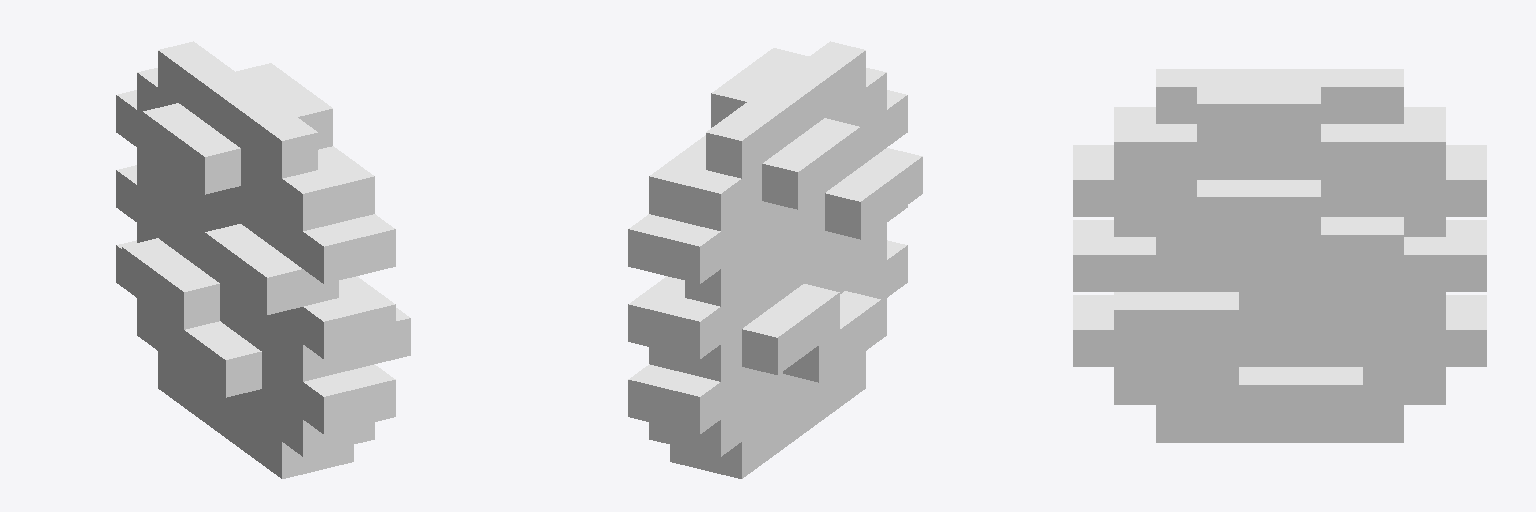
File: SH_Enviorment-8-Brick_DetailA.obj
The picture shows the model from 3 angles: view 1: azimuth 30°, elevation 25°; view 2: azimuth 150°, elevation 25°; view 3: azimuth 270°, elevation 25°; orthographic projection.
Parts seen in each view (by area): view 1: Brick_DetailA; view 2: Brick_DetailA; view 3: Brick_DetailA.
Part boxes in pixels (x1,y1,x2,y2): Brick_DetailA: (116, 41, 410, 478); Brick_DetailA: (628, 41, 922, 478); Brick_DetailA: (1073, 69, 1486, 442).
Bounding box in the file's own units: 0.4 × 0.9 × 1.